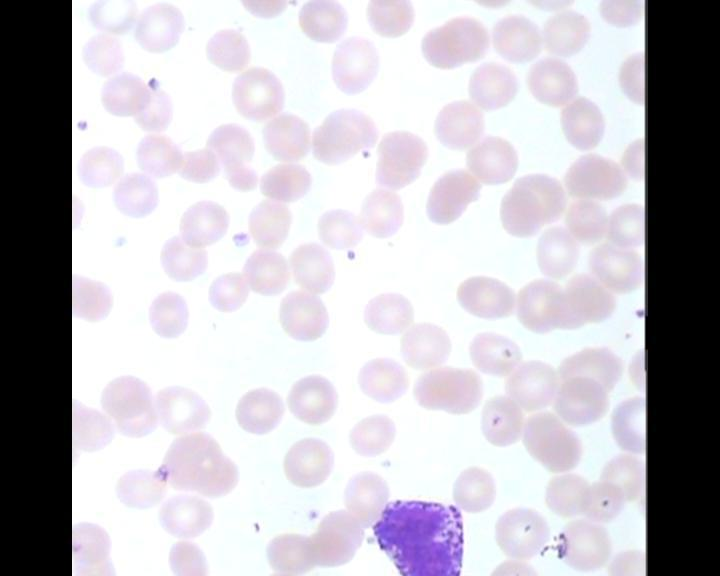baso: (369, 493, 473, 576)
